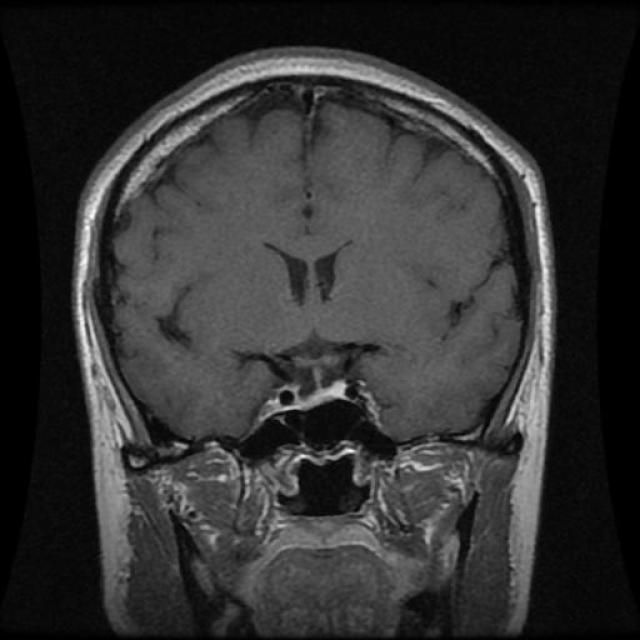pituitary: (236, 356, 386, 444)
